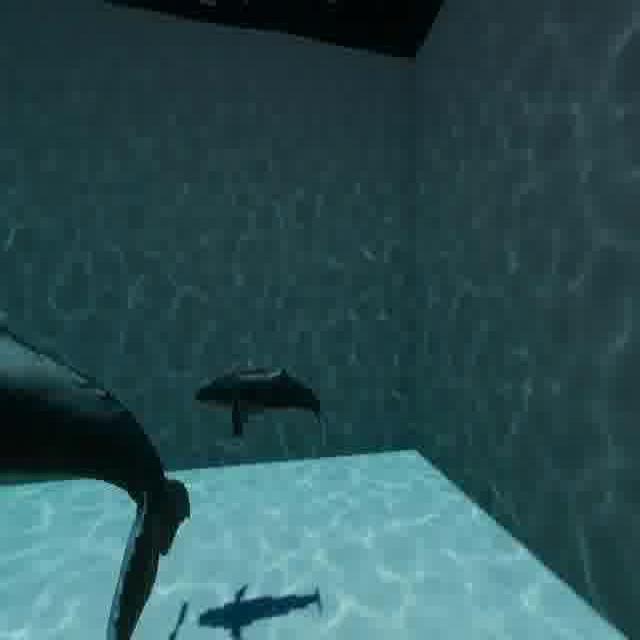Whale: (0, 291, 194, 640), (194, 342, 346, 454)
